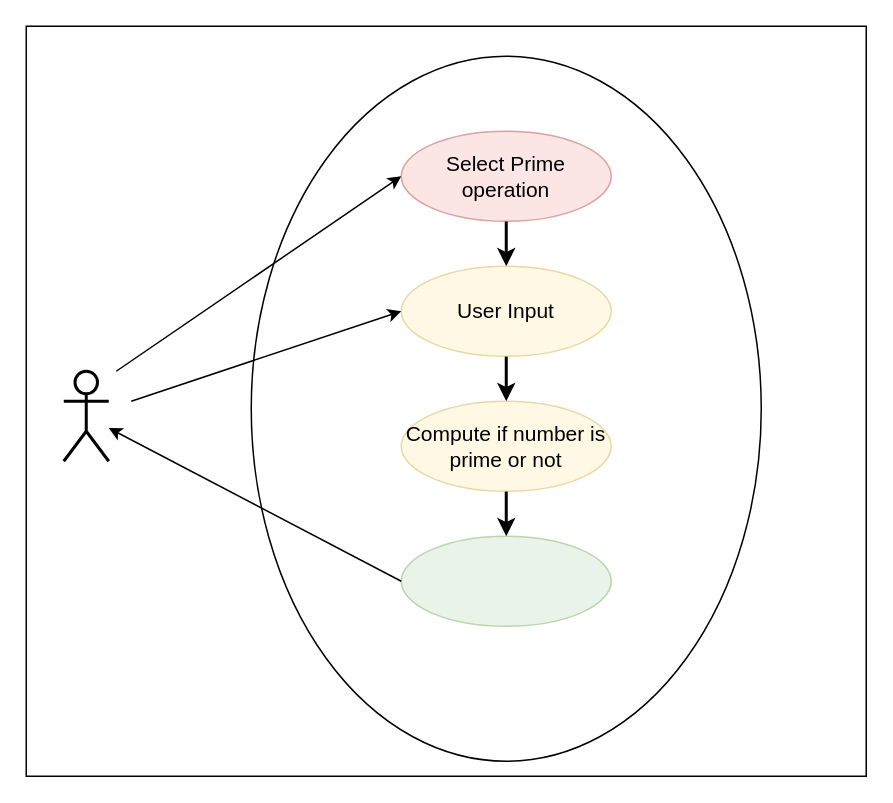
The diagram is 893 pixels wide and 803 high, and some of its shapes have lost their labels. Each missing label, with the centre of its shape:
Output result: [505,580]
User: [86,415]
